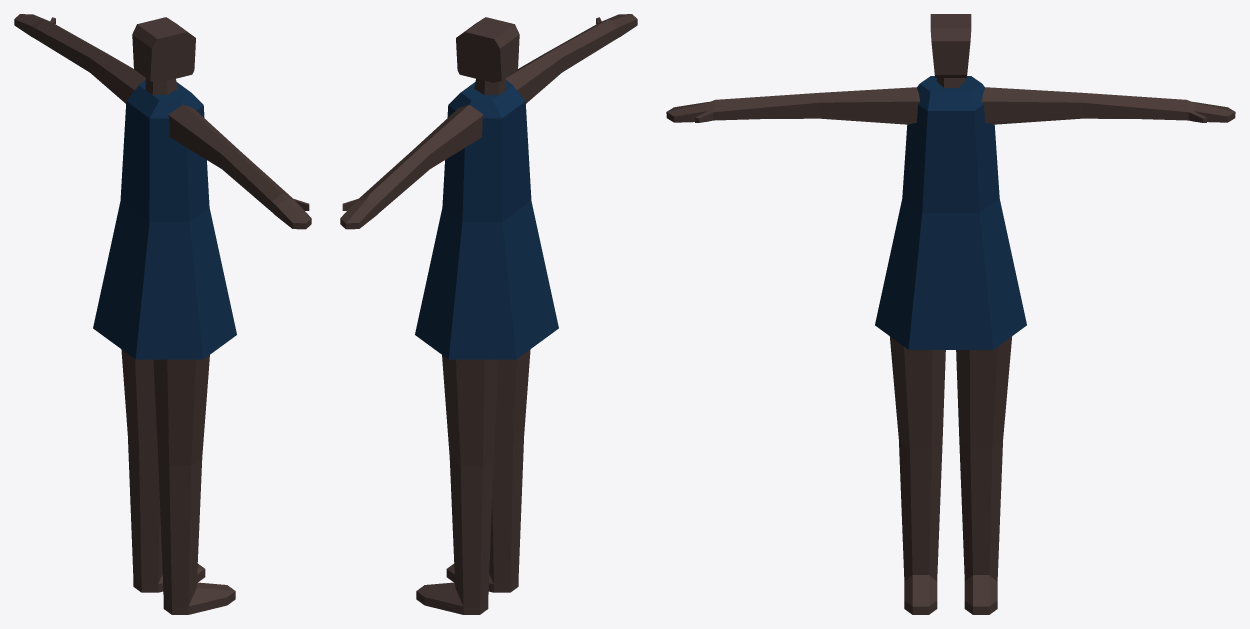
Rendered from villager.obj.
3 renders of one model, left to right at view 1: azimuth 30°, elevation 25°; view 2: azimuth 150°, elevation 25°; view 3: azimuth 270°, elevation 25°, orthographic.
Visible parts, largest first — view 1: Cylinder; view 2: Cylinder; view 3: Cylinder.
Part boxes in pixels (bbox=[...]): Cylinder: bbox=[14, 14, 311, 614]; Cylinder: bbox=[340, 14, 637, 614]; Cylinder: bbox=[666, 14, 1235, 614].
Bounding box in the file's own units: 0.3434 × 1.84 × 1.67.
